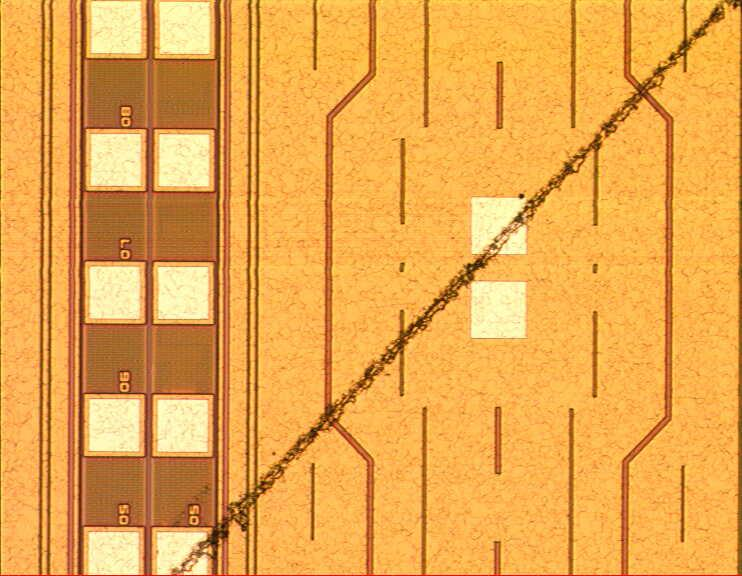SCRATCH: (166, 1, 742, 576)
